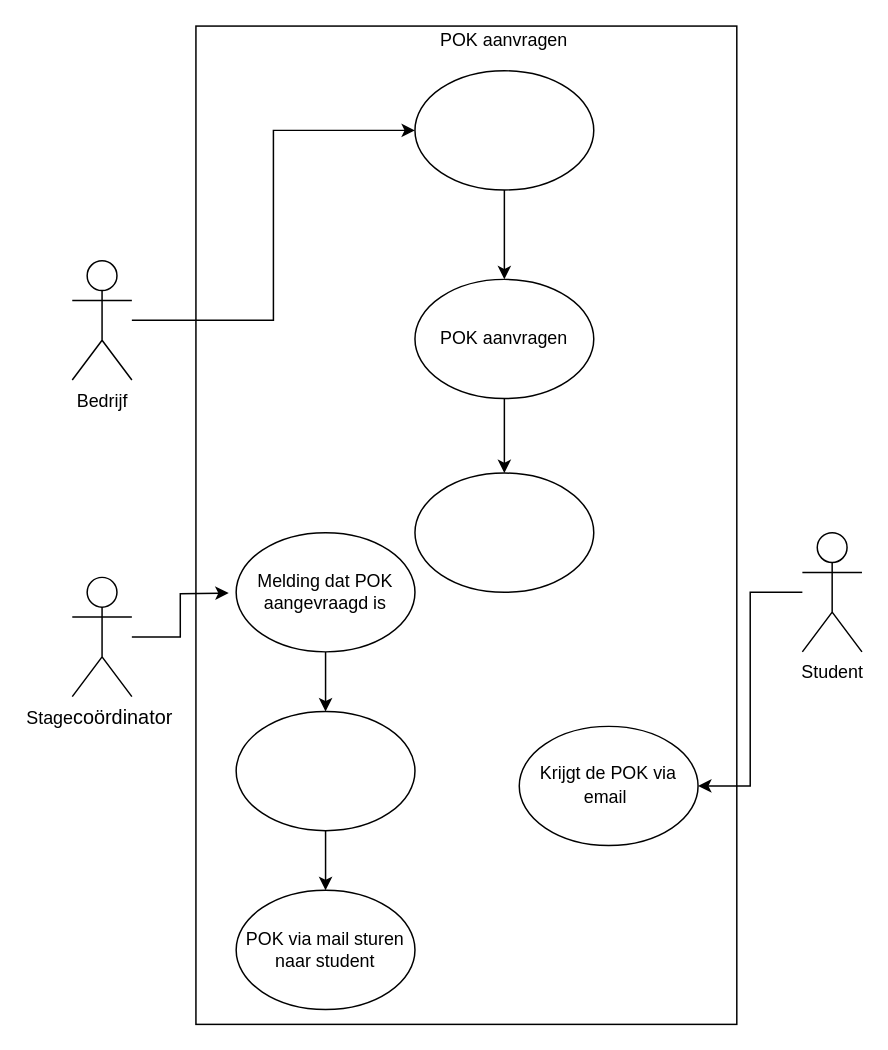
The diagram is 888 pixels wide and 1050 high, and some of its shapes have lost their labels. The shapes that lost their labels are listed below. From the top down, each one's centre as x and y in pixels, then its label:
At [503,129]: "Profiel pagina".
At [503,532]: "Melding sturen naar Stage coördinator".
At [325,770]: "Actie uitvoeren".
